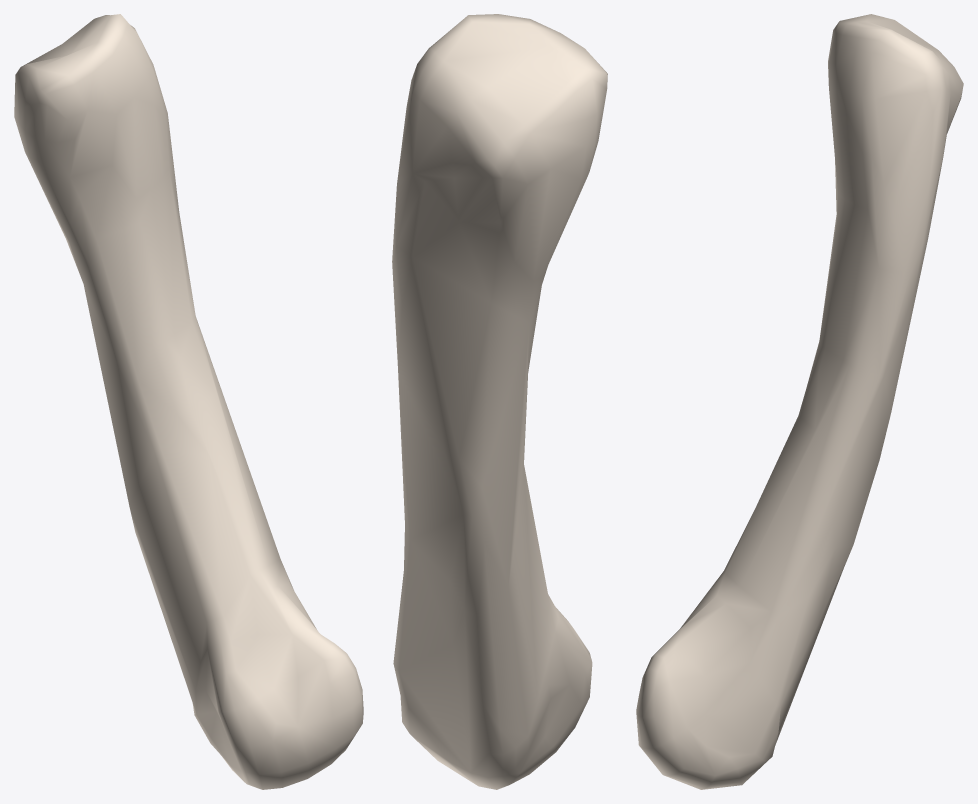
The model's file is right_metacarpal_5.glb.
The picture shows the model from 3 angles, left to right: view 1: azimuth 30°, elevation 25°; view 2: azimuth 150°, elevation 25°; view 3: azimuth 270°, elevation 25°; orthographic projection. The views are drawn at different scales.
Visible parts, largest first — view 1: 5th metacarpal bone.r; view 2: 5th metacarpal bone.r; view 3: 5th metacarpal bone.r.
Boxes of the visible parts, bbox=[...] form: 5th metacarpal bone.r: bbox=[14, 14, 363, 789]; 5th metacarpal bone.r: bbox=[392, 14, 607, 789]; 5th metacarpal bone.r: bbox=[636, 14, 963, 789].
Size of the model in its own units: 0.0193 by 0.0567 by 0.0233.
